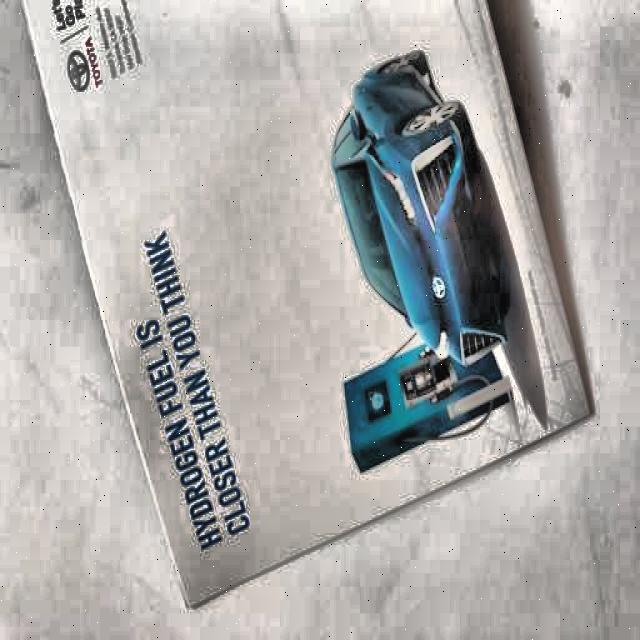paper: (25, 0, 592, 583)
